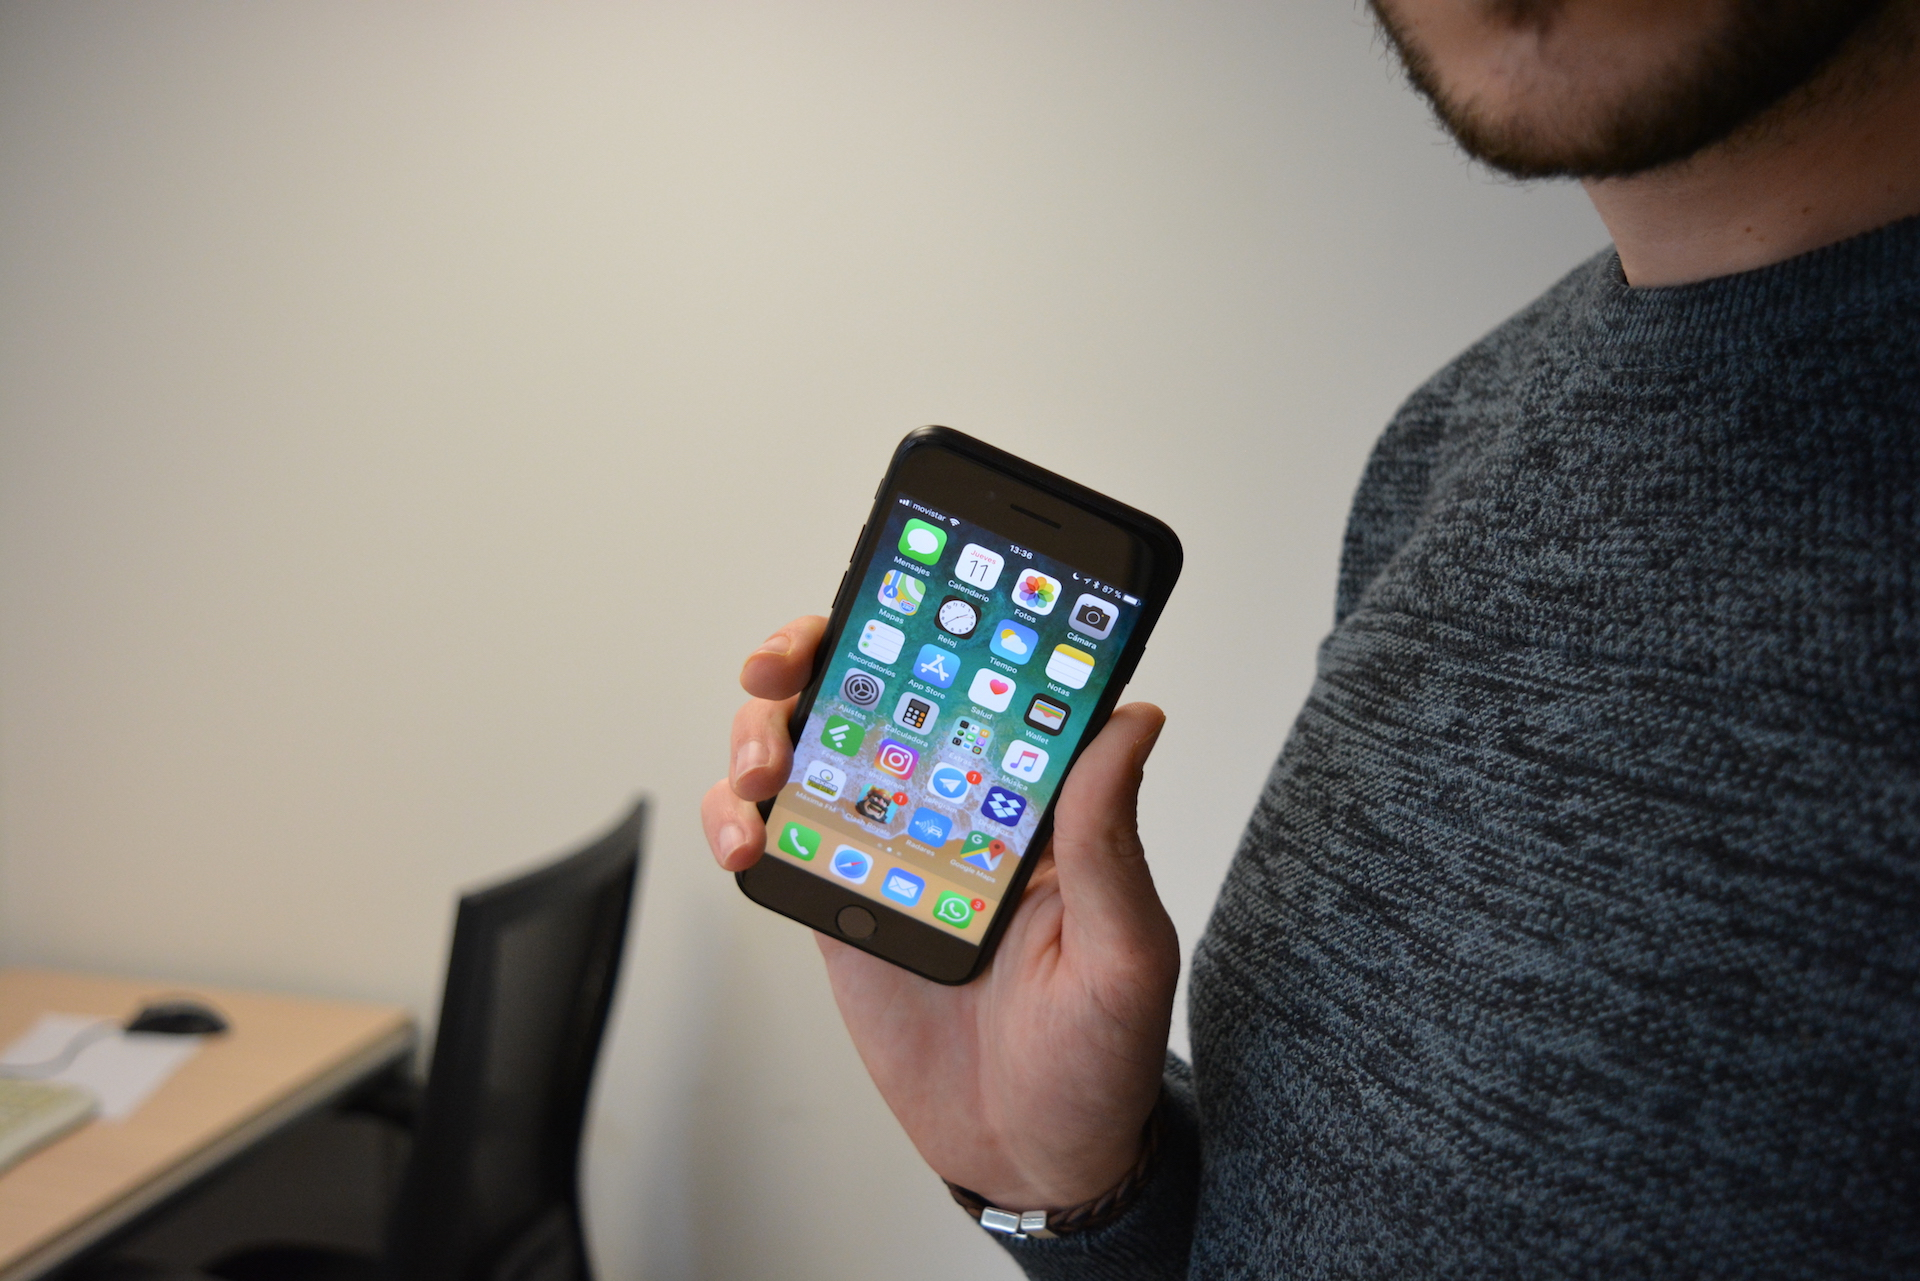smartphone: (731, 422, 1187, 989)
